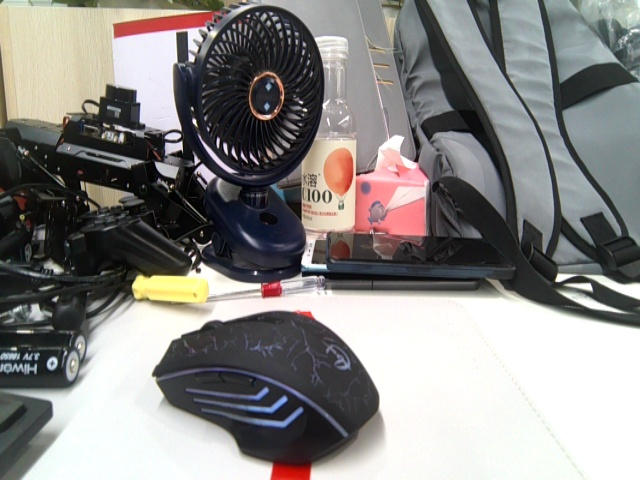mouse: (121, 303, 420, 472)
